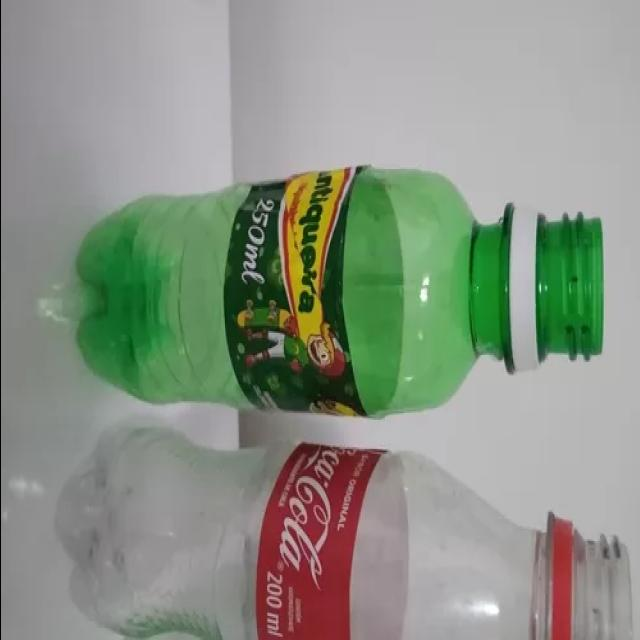bottom: (51, 417, 170, 640), (72, 184, 150, 425)
no_cap: (467, 184, 612, 398), (522, 500, 640, 640)
